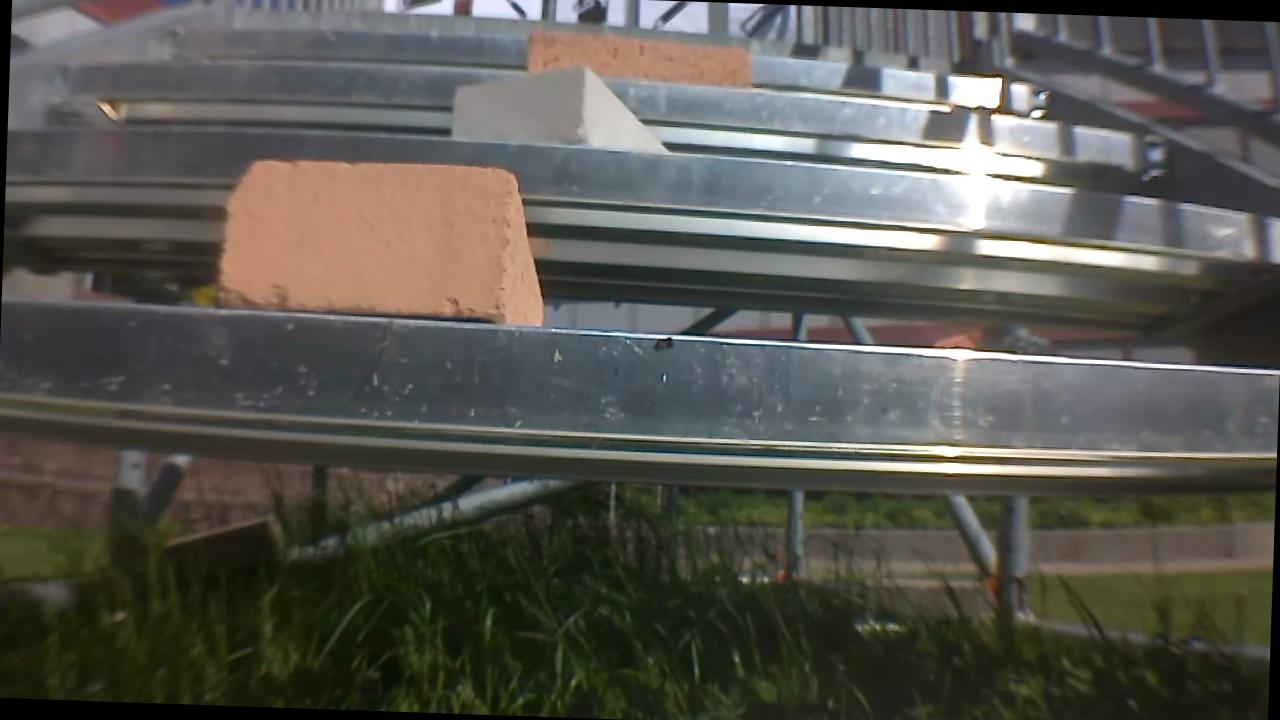brick: (212, 157, 561, 322), (447, 58, 699, 156), (529, 38, 753, 82)
edge: (19, 123, 1280, 261), (8, 58, 1176, 148), (148, 34, 1057, 87)
